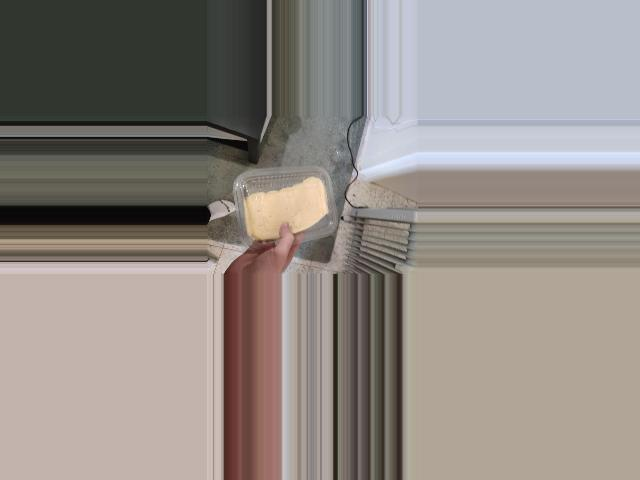cheese: (234, 173, 335, 246)
